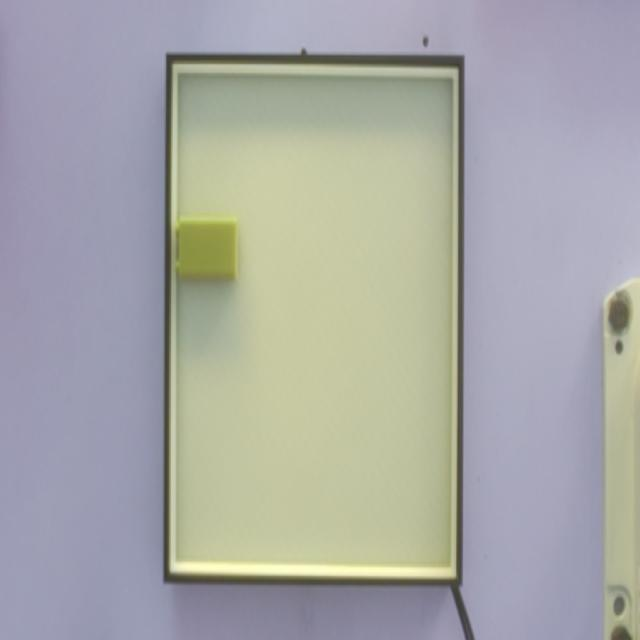bateria: (176, 217, 238, 284)
mesa: (162, 53, 464, 587)
